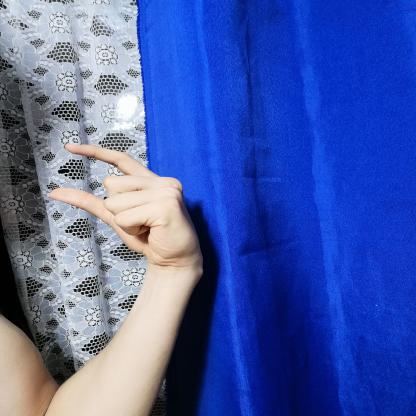DELL: (33, 132, 207, 273)
